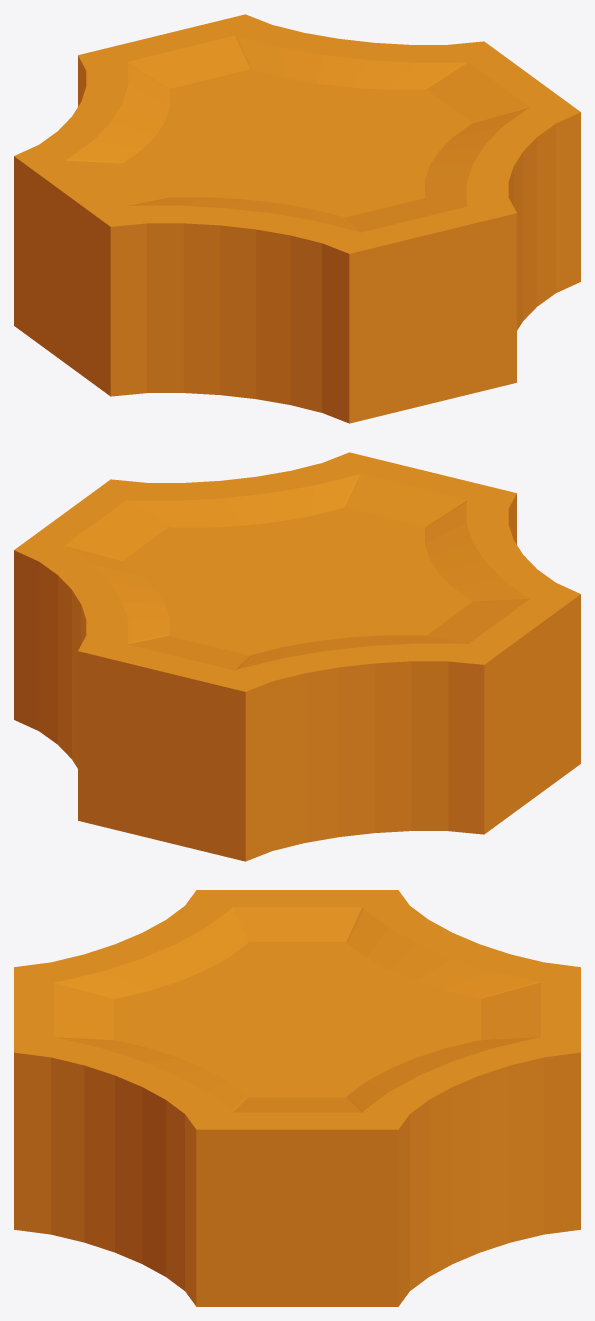
File: seleccionnaranja.glb
3 renders of one model, top to bottom at view 1: azimuth 30°, elevation 25°; view 2: azimuth 150°, elevation 25°; view 3: azimuth 270°, elevation 25°, orthographic. The views are drawn at different scales.
Parts seen in each view (by area): view 1: Cubo.184; view 2: Cubo.184; view 3: Cubo.184.
Boxes of the visible parts, bbox=[...] form: Cubo.184: bbox=[14, 14, 580, 423]; Cubo.184: bbox=[14, 452, 580, 861]; Cubo.184: bbox=[14, 890, 580, 1306].
Size of the model in its own units: 2.05 by 0.7449 by 2.05.
